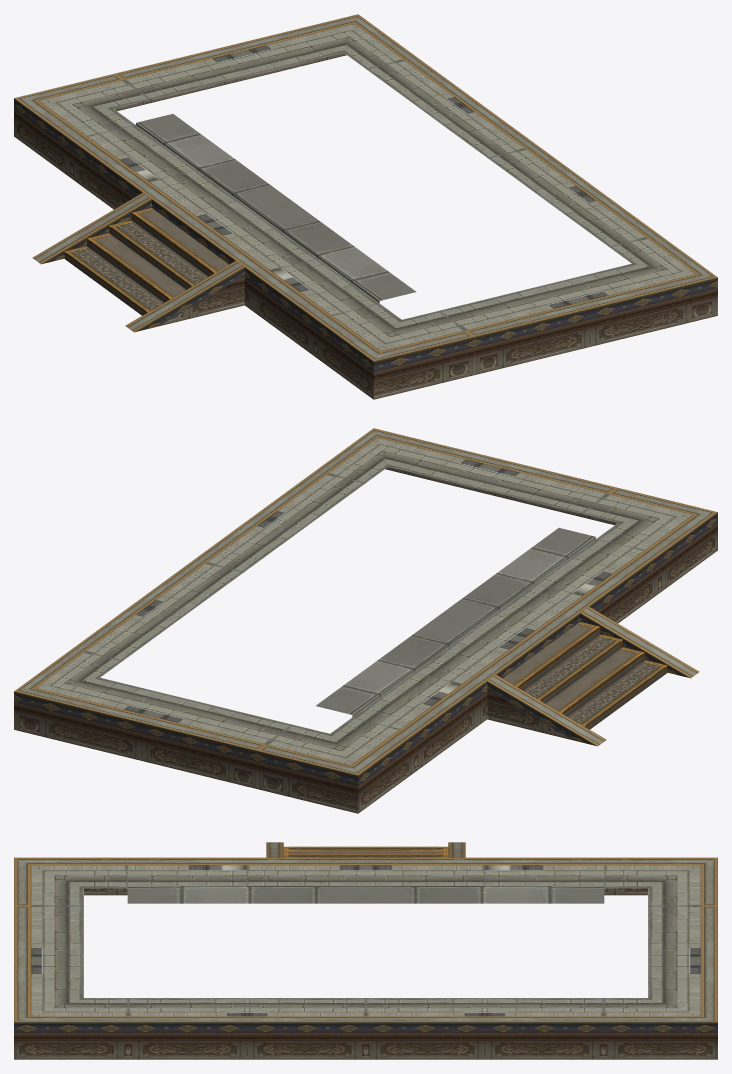
Rendered from Yland1_jz_08 Yland1.FBX.
3 views of the same model, one above another, from view 1: azimuth 30°, elevation 25°; view 2: azimuth 150°, elevation 25°; view 3: azimuth 270°, elevation 25° (orthographic). The views are drawn at different scales.
Visible parts, largest first — view 1: Yland1_jz_08 Yland1; view 2: Yland1_jz_08 Yland1; view 3: Yland1_jz_08 Yland1.
Part boxes in pixels (box(x1,y1,x2,y2)): Yland1_jz_08 Yland1: box(14, 14, 717, 399); Yland1_jz_08 Yland1: box(14, 428, 717, 813); Yland1_jz_08 Yland1: box(14, 842, 717, 1059).
Bounding box in the file's own units: 11.38 × 0.9763 × 15.58.
